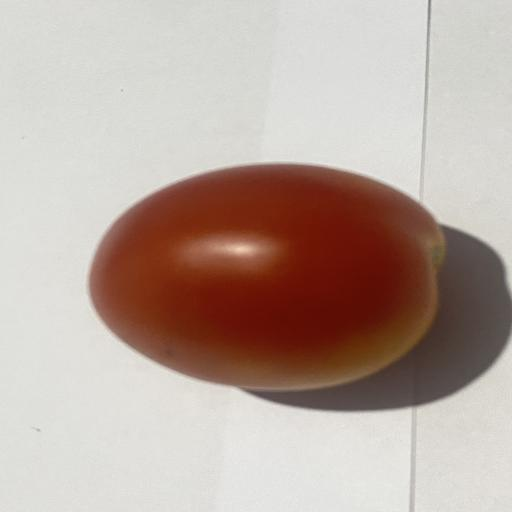ripe: (89, 163, 445, 390)
